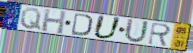D: (70, 12, 93, 38)
H: (41, 8, 68, 36)
Q: (19, 7, 43, 31)
R: (146, 22, 172, 48)
U: (91, 14, 123, 40), (123, 18, 150, 45)
